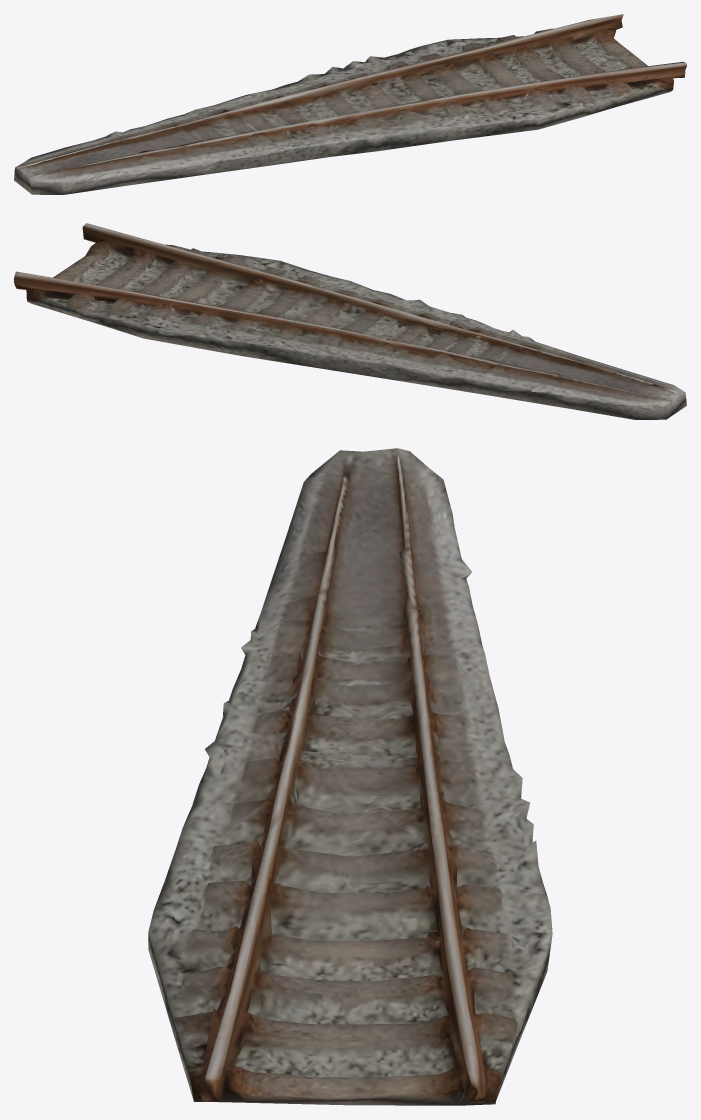
File: rail_track.7646ae2f89.glb
The picture shows the model from 3 angles, top to bottom: view 1: azimuth 30°, elevation 25°; view 2: azimuth 150°, elevation 25°; view 3: azimuth 270°, elevation 25°; orthographic projection. The views are drawn at different scales.
Visible parts, largest first — view 1: rail_track; view 2: rail_track; view 3: rail_track.
Part boxes in pixels (left/top/right/bottom): rail_track: left=14, top=14, right=686, bottom=194; rail_track: left=14, top=223, right=686, bottom=419; rail_track: left=148, top=448, right=552, bottom=1105.
Size of the model in its own units: 12.03 by 0.6416 by 3.37.
1 material, 1 textured.
